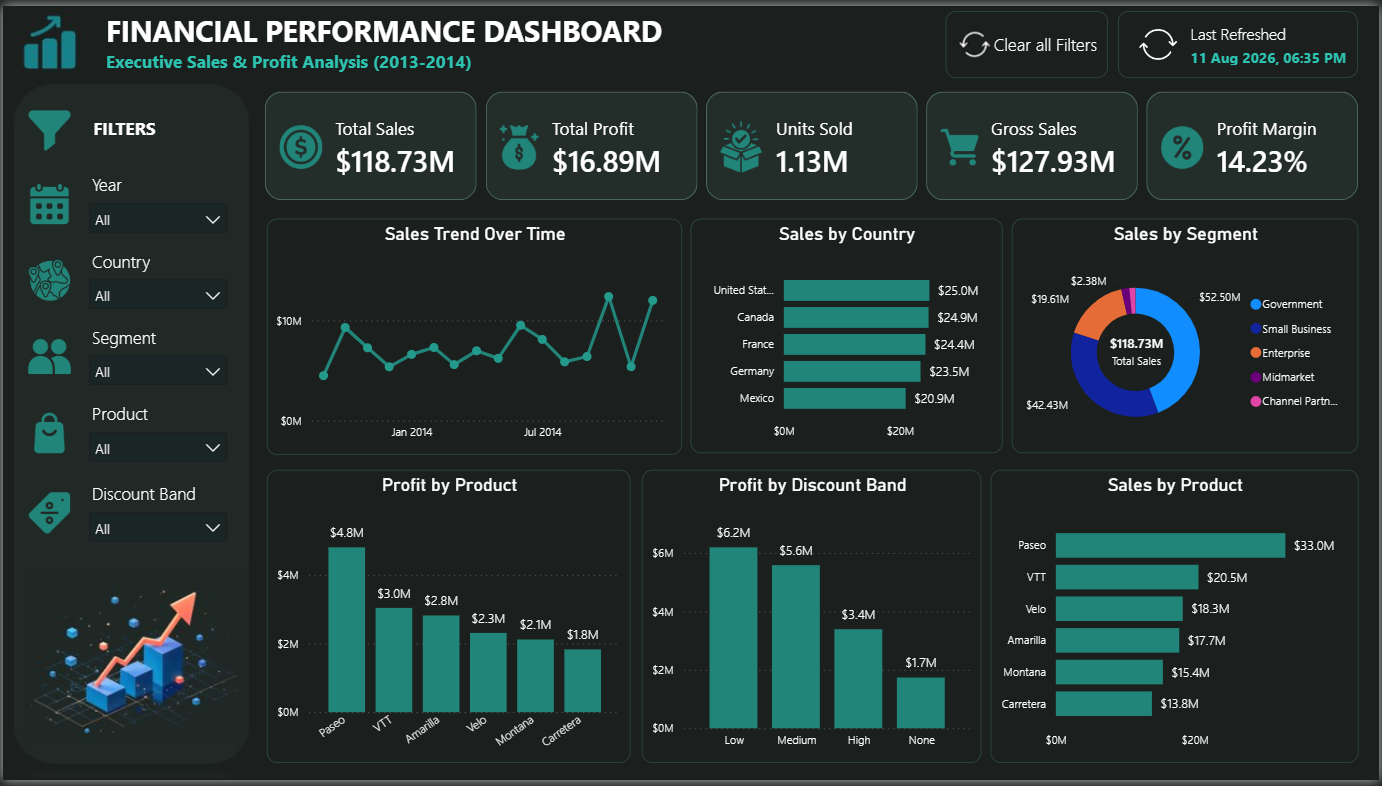

The page's visual inventory and layout, read from the dashboard file:
{"tool":"powerbi","page":{"name":"Page 1","canvas":[1280,720],"ordinal":0},"visuals":[{"type":"image","box":[23.3,90.6,39.8,49.4],"z":0},{"type":"textbox","box":[79.6,97.4,85.1,35.7],"z":1},{"type":"image","box":[23.3,164.7,39.8,38.4],"z":2},{"type":"slicer","title":"Year","fields":{"Values":["Sheet1.Year"]},"box":[70,149.6,148.2,68.6],"z":4},{"type":"image","box":[23.3,236,39.8,38.4],"z":5},{"type":"slicer","title":"Year","fields":{"Values":["Sheet1.Country"]},"box":[70,220.9,148.2,68.6],"z":6},{"type":"image","box":[23.3,307.4,39.8,38.4],"z":7},{"type":"slicer","title":"Year","fields":{"Values":["Sheet1.Segment"]},"box":[70,292.3,148.2,68.6],"z":8},{"type":"image","box":[23.3,377.4,39.8,38.4],"z":9},{"type":"slicer","title":"Year","fields":{"Values":["Sheet1.Product"]},"box":[70,362.3,148.2,68.6],"z":10},{"type":"image","box":[23.3,452.8,39.8,38.4],"z":11},{"type":"slicer","title":"Year","fields":{"Values":["Sheet1.Discount Band"]},"box":[70,437.7,148.2,68.6],"z":12},{"type":"cardVisual","fields":{"Data":["Sum(Sheet1.Sales)","Sum(Sheet1.Profit)","Sum(Sheet1.Units Sold)","Sum(Sheet1.Gross Sales)","Measures (2).Profit Margin"]},"box":[226.2,62.5,1052.5,135],"z":13},{"type":"lineChart","title":"Sales Trend Over Time","fields":{"Category":["Sheet1.Date"],"Y":["Sum(Sheet1.Sales)"]},"box":[245,197.5,386.2,220],"z":14},{"type":"barChart","title":"Sales by Country","fields":{"Category":["Sheet1.Country"],"Y":["Sum(Sheet1.Sales)"]},"box":[640,197.5,290,218.8],"z":15},{"type":"donutChart","title":"Sales by Segment","fields":{"Category":["Sheet1.Segment"],"Y":["Sum(Sheet1.Sales)"]},"box":[938.8,197.5,322.5,218.8],"z":16},{"type":"cardVisual","fields":{"Data":["Sum(Sheet1.Sales)"]},"box":[1000.1,289.6,109.6,63.6],"z":17},{"type":"columnChart","title":"Profit by Product","fields":{"Category":["Sheet1.Product"],"Y":["Sum(Sheet1.Profit)"]},"box":[245,431.2,338.8,272.5],"z":18},{"type":"clusteredColumnChart","title":"Profit by Discount Band","fields":{"Category":["Sheet1.Discount Band"],"Y":["Sum(Sheet1.Profit)"]},"box":[593.8,431.2,316.2,272.5],"z":19},{"type":"barChart","title":"Sales by Product","fields":{"Category":["Sheet1.Product"],"Y":["Sum(Sheet1.Sales)"]},"box":[918.8,431.2,342.5,272.5],"z":20},{"type":"textbox","box":[90.7,0,549.5,73.1],"z":21},{"type":"cardVisual","fields":{"Data":["Measures (2).Last Refreshed"]},"box":[1075,0,205,72.5],"z":22},{"type":"image","box":[1057.5,17.5,35.2,36.5],"z":23},{"type":"cardVisual","fields":{"Data":["Measures (2).Last Refreshed"]},"box":[1037.5,5,223.3,62.3],"z":24},{"type":"actionButton","box":[876.2,5,151.6,62.3],"z":25}]}

Visuals, with their boxes in screenshot pixels (x1, y1, x2, y2), scaled from the page's 1280x720 canvas onto the 1382x786 screenshot:
image: 25/99/68/153
textbox: 86/106/178/145
image: 25/180/68/222
"Year" slicer: 76/163/236/238
image: 25/258/68/300
"Year" slicer: 76/241/236/316
image: 25/336/68/377
"Year" slicer: 76/319/236/394
image: 25/412/68/454
"Year" slicer: 76/396/236/470
image: 25/494/68/536
"Year" slicer: 76/478/236/553
cardVisual - Sum(Sheet1.Sales) x Sum(Sheet1.Profit): 244/68/1381/216
"Sales Trend Over Time" lineChart: 265/216/681/456
"Sales by Country" barChart: 691/216/1004/454
"Sales by Segment" donutChart: 1014/216/1362/454
cardVisual - Sum(Sheet1.Sales): 1080/316/1198/386
"Profit by Product" columnChart: 265/471/630/768
"Profit by Discount Band" clusteredColumnChart: 641/471/983/768
"Sales by Product" barChart: 992/471/1362/768
textbox: 98/0/691/80
cardVisual - Measures (2).Last Refreshed: 1161/0/1381/79
image: 1142/19/1180/59
cardVisual - Measures (2).Last Refreshed: 1120/5/1361/73
actionButton: 946/5/1110/73
